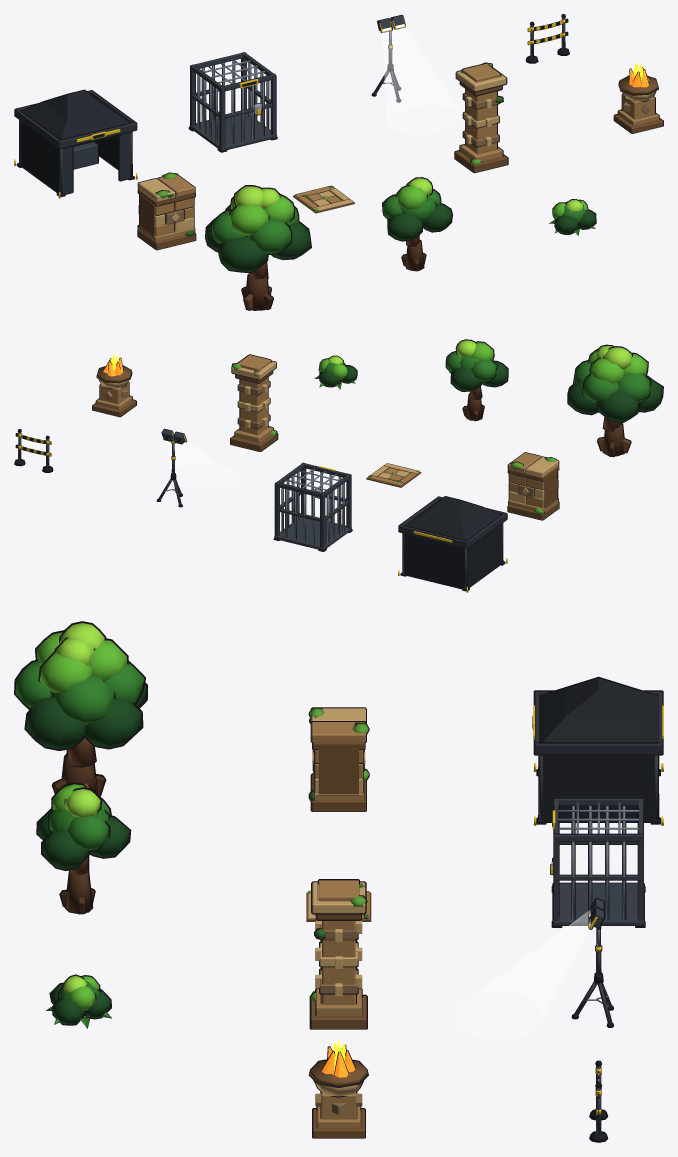
File: env_kit.glb
3 views of the same model, one above another, from view 1: azimuth 30°, elevation 25°; view 2: azimuth 150°, elevation 25°; view 3: azimuth 270°, elevation 25° (orthographic). The views are drawn at different scales.
Parts seen in each view (by area): view 1: FBI_Tactical_Tent, Jungle_Canopy_Tree_Large, FBI_Holding_Cage, FBI_Tripod_Floodlight_LightCone, Ruin_Stone_Pillar, Ruin_Temple_Wall, Jungle_Canopy_Tree_Small, Ruin_Fire_Brazier_Stone, Jungle_Foliage_Bush, Ruin_Sandstone_Floor, FBI_Tripod_Floodlight_Body, FBI_Caution_Barrier; view 2: FBI_Tactical_Tent, Jungle_Canopy_Tree_Large, FBI_Holding_Cage, Ruin_Stone_Pillar, Ruin_Temple_Wall, Jungle_Canopy_Tree_Small, FBI_Tripod_Floodlight_LightCone, Ruin_Fire_Brazier_Stone, Jungle_Foliage_Bush, Ruin_Sandstone_Floor, FBI_Tripod_Floodlight_Body, FBI_Caution_Barrier; view 3: FBI_Tactical_Tent, Jungle_Canopy_Tree_Large, FBI_Holding_Cage, Ruin_Stone_Pillar, FBI_Tripod_Floodlight_LightCone, Jungle_Canopy_Tree_Small, Ruin_Temple_Wall, Ruin_Fire_Brazier_Stone, Jungle_Foliage_Bush, FBI_Tripod_Floodlight_Body, Ruin_Fire_Brazier_Flame, FBI_Caution_Barrier.
Part boxes in pixels (x1,y1,x2,y2): FBI_Tactical_Tent: [14, 89, 137, 198]; Jungle_Canopy_Tree_Large: [205, 185, 311, 310]; FBI_Holding_Cage: [188, 52, 277, 152]; FBI_Tripod_Floodlight_LightCone: [382, 21, 462, 133]; Ruin_Stone_Pillar: [454, 62, 508, 173]; Ruin_Temple_Wall: [137, 172, 196, 250]; Jungle_Canopy_Tree_Small: [382, 177, 452, 271]; Ruin_Fire_Brazier_Stone: [613, 75, 663, 133]; Jungle_Foliage_Bush: [549, 199, 596, 235]; Ruin_Sandstone_Floor: [293, 185, 354, 213]; FBI_Tripod_Floodlight_Body: [371, 15, 405, 102]; FBI_Caution_Barrier: [525, 14, 569, 63]; FBI_Tactical_Tent: [398, 496, 507, 592]; Jungle_Canopy_Tree_Large: [567, 344, 663, 457]; FBI_Holding_Cage: [273, 462, 352, 551]; Ruin_Stone_Pillar: [230, 354, 278, 451]; Ruin_Temple_Wall: [507, 452, 559, 520]; Jungle_Canopy_Tree_Small: [445, 339, 508, 421]; FBI_Tripod_Floodlight_LightCone: [167, 434, 238, 489]; Ruin_Fire_Brazier_Stone: [92, 365, 136, 417]; Jungle_Foliage_Bush: [314, 355, 357, 389]; Ruin_Sandstone_Floor: [366, 463, 421, 487]; FBI_Tripod_Floodlight_Body: [156, 428, 186, 507]; FBI_Caution_Barrier: [14, 429, 53, 472]; FBI_Tactical_Tent: [532, 676, 663, 825]; Jungle_Canopy_Tree_Large: [14, 621, 147, 796]; FBI_Holding_Cage: [550, 798, 645, 927]; Ruin_Stone_Pillar: [309, 879, 367, 1029]; FBI_Tripod_Floodlight_LightCone: [454, 910, 589, 1040]; Jungle_Canopy_Tree_Small: [36, 782, 131, 914]; Ruin_Temple_Wall: [308, 707, 369, 811]; Ruin_Fire_Brazier_Stone: [308, 1059, 368, 1138]; Jungle_Foliage_Bush: [46, 974, 111, 1028]; FBI_Tripod_Floodlight_Body: [571, 898, 613, 1027]; Ruin_Fire_Brazier_Flame: [321, 1039, 355, 1077]; FBI_Caution_Barrier: [589, 1060, 608, 1142].
Bounding box in the file's own units: 13.68 × 2.88 × 10.01.
